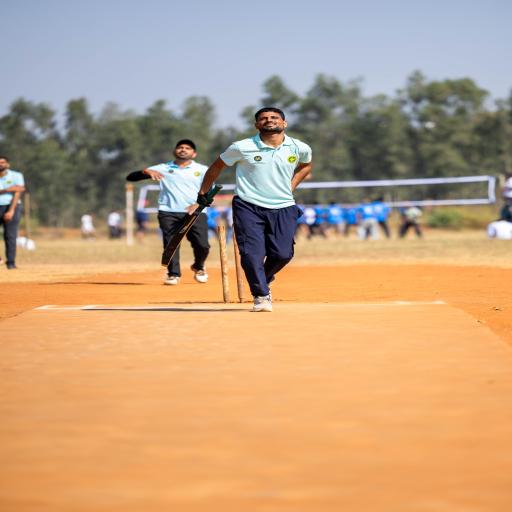shoe: (191, 265, 208, 283), (253, 295, 272, 311), (164, 276, 180, 285), (7, 264, 17, 269)
